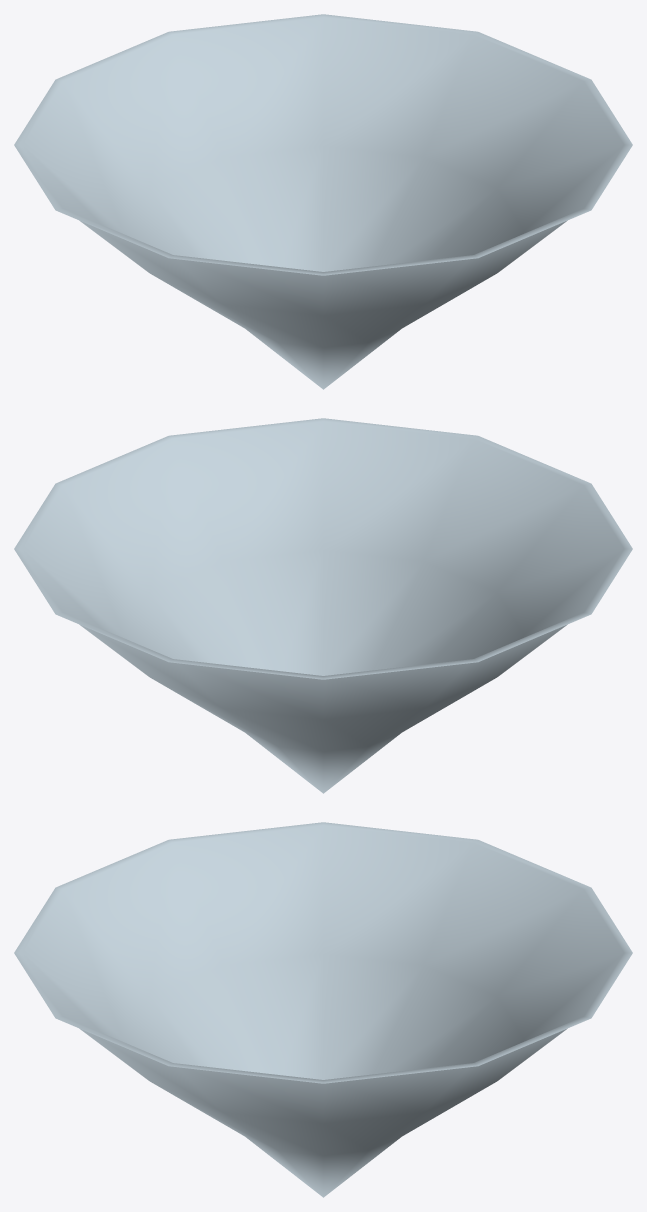
The picture shows the model from 3 angles, top to bottom: view 1: azimuth 30°, elevation 25°; view 2: azimuth 150°, elevation 25°; view 3: azimuth 270°, elevation 25°; orthographic projection.
Parts seen in each view (by area): view 1: Object13; view 2: Object13; view 3: Object13.
Part boxes in pixels (bbox=[...]): Object13: bbox=[14, 14, 632, 389]; Object13: bbox=[14, 418, 632, 793]; Object13: bbox=[14, 822, 632, 1197].
Bounding box in the file's own units: 385 × 168 × 385.
